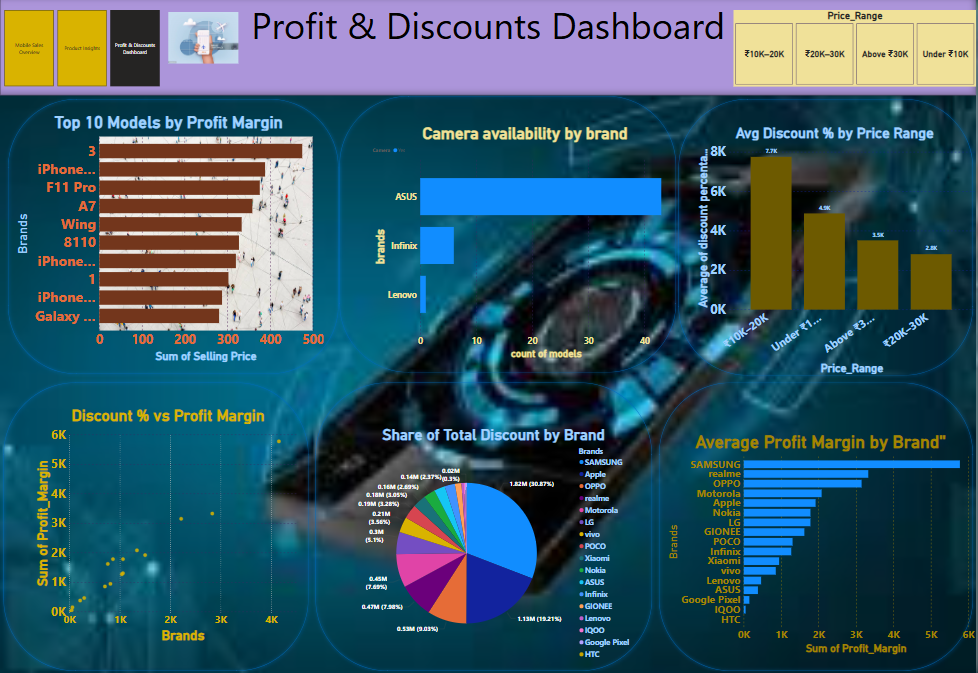

What the dashboard file says about the page in this screenshot:
{"tool":"powerbi","page":{"name":"Profit & Discounts Dashboard","canvas":[2600,1800],"ordinal":2},"visuals":[{"type":"textbox","box":[0,0,2600.2,259.6],"z":0},{"type":"image","box":[375.5,32,331.5,147.8],"z":1000},{"type":"clusteredBarChart","title":"Top 10 Models by Profit Margin","fields":{"Category":["mobilesalesdtaset.Models"],"Y":["Sum(mobilesalesdtaset.Profit_Margin)"]},"box":[32,303.6,834.8,671],"z":2000},{"type":"shape","box":[830.8,1014.5,914.7,786.9],"z":3000},{"type":"barChart","title":"Camera availability by brand","fields":{"Series":["mobilesalesdtaset.Camera"],"Category":["mobilesalesdtaset.Brands"],"Y":["CountNonNull(mobilesalesdtaset.Models)"]},"box":[986.6,335.5,822.8,631.1],"z":4000},{"type":"shape","box":[0,1014.5,830.8,786.9],"z":5000},{"type":"clusteredColumnChart","title":"Avg Discount % by Price Range","fields":{"Category":["mobilesalesdtaset.Price_Range"],"Y":["Sum(mobilesalesdtaset.Discount_Percent)"]},"box":[1845.3,335.5,754.9,671],"z":6000},{"type":"shape","box":[12,259.6,898.7,750.9],"z":7000},{"type":"scatterChart","title":"Discount % vs Profit Margin","fields":{"X":["Sum(mobilesalesdtaset.Discount_Percent)"],"Y":["Sum(mobilesalesdtaset.Profit_Margin)"],"Category":["mobilesalesdtaset.Brands"]},"box":[83.9,1086.4,726.9,635.1],"z":8000},{"type":"shape","box":[894.7,251.6,914.7,754.9],"z":9000},{"type":"pieChart","title":"Share of Total Discount by Brand","fields":{"Category":["mobilesalesdtaset.Brands"],"Y":["Sum(mobilesalesdtaset.Discount_Value)"]},"box":[938.6,1138.3,750.9,631.1],"z":10000},{"type":"shape","box":[1745.5,1014.5,854.8,786.9],"z":11000},{"type":"barChart","title":"Average Profit Margin by Brand\"","fields":{"Category":["mobilesalesdtaset.Brands"],"Y":["Sum(mobilesalesdtaset.Profit_Margin)"]},"box":[1769.4,1154.3,830.8,599.1],"z":12000},{"type":"shape","box":[1797.4,259.6,802.8,754.9],"z":13000},{"type":"pageNavigator","box":[12,32,415.4,203.7],"z":14000},{"type":"advancedSlicerVisual","fields":{"Values":["mobilesalesdtaset.Price_Range"]},"box":[1953.2,32,647.1,203.7],"z":15000}]}

Visuals, with their boxes on the page's 2600x1800 design canvas (x1, y1, x2, y2). These are canvas units, not pixel positions in the 978x673 screenshot, which may show the page scaled, cropped or inside an application window:
textbox: crop(0, 0, 2600, 260)
image: crop(376, 32, 707, 180)
"Top 10 Models by Profit Margin" clusteredBarChart: crop(32, 304, 867, 975)
shape: crop(831, 1014, 1746, 1801)
"Camera availability by brand" barChart: crop(987, 336, 1809, 967)
shape: crop(0, 1014, 831, 1801)
"Avg Discount % by Price Range" clusteredColumnChart: crop(1845, 336, 2600, 1006)
shape: crop(12, 260, 911, 1010)
"Discount % vs Profit Margin" scatterChart: crop(84, 1086, 811, 1722)
shape: crop(895, 252, 1809, 1006)
"Share of Total Discount by Brand" pieChart: crop(939, 1138, 1690, 1769)
shape: crop(1746, 1014, 2600, 1801)
"Average Profit Margin by Brand"" barChart: crop(1769, 1154, 2600, 1753)
shape: crop(1797, 260, 2600, 1014)
pageNavigator: crop(12, 32, 427, 236)
advancedSlicerVisual - mobilesalesdtaset.Price_Range: crop(1953, 32, 2600, 236)
